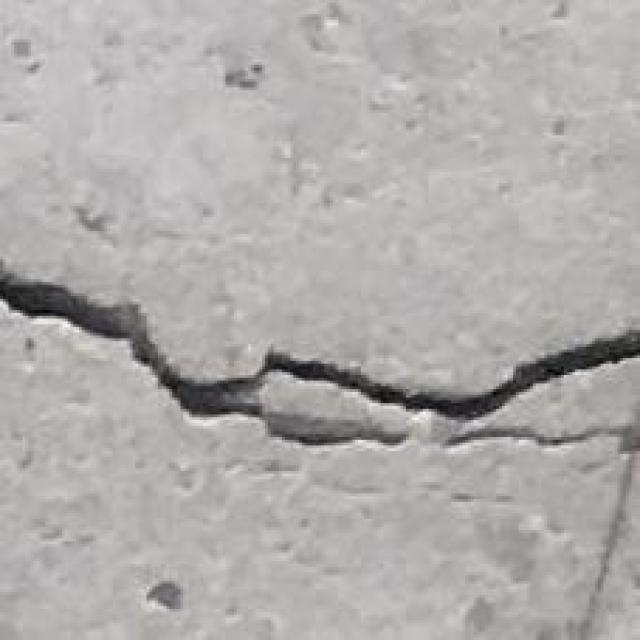Crack: (3, 234, 640, 493)
